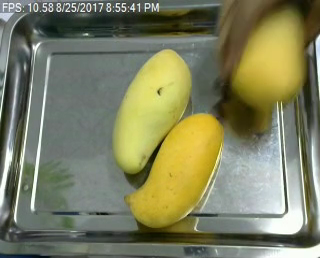Mango: (122, 111, 224, 226), (111, 48, 193, 175), (229, 8, 307, 111)
